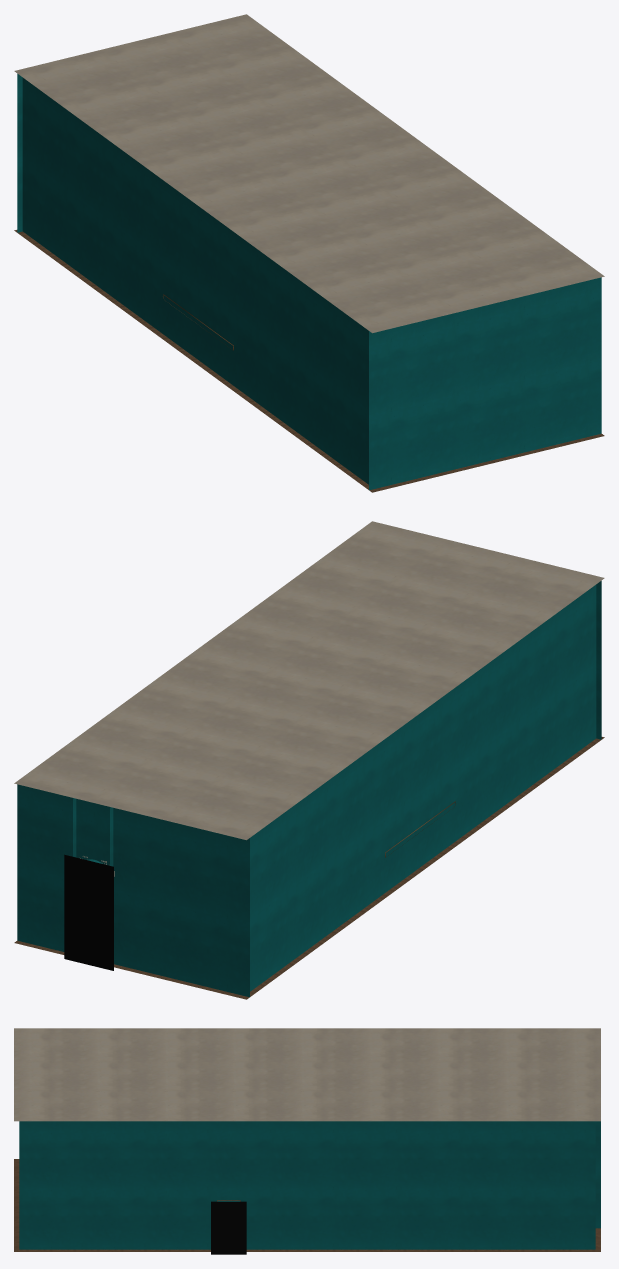
Rendered from rdwe_teal2.glb.
The picture shows the model from 3 angles, top to bottom: view 1: azimuth 30°, elevation 25°; view 2: azimuth 150°, elevation 25°; view 3: azimuth 270°, elevation 25°; orthographic projection. The views are drawn at different scales.
Visible parts, largest first — view 1: Wall_Teal.001, Ceiling_Teal.001, Carpet_Fleck.001; view 2: Wall_Teal.001, Ceiling_Teal.001, Void.001, Carpet_Fleck.001; view 3: Wall_Teal.001, Ceiling_Teal.001, Carpet_Fleck.001, Void.001.
Part boxes in pixels (box(x1,y1,x2,y2)): Wall_Teal.001: box(17, 74, 601, 490); Ceiling_Teal.001: box(14, 14, 604, 333); Carpet_Fleck.001: box(14, 230, 604, 492); Wall_Teal.001: box(17, 581, 601, 997); Ceiling_Teal.001: box(14, 521, 604, 840); Void.001: box(64, 854, 113, 970); Carpet_Fleck.001: box(14, 737, 604, 999); Wall_Teal.001: box(19, 1121, 600, 1249); Ceiling_Teal.001: box(14, 1028, 600, 1121); Carpet_Fleck.001: box(14, 1159, 600, 1251); Void.001: box(211, 1201, 246, 1254).
Size of the model in its own units: 8.55 by 5.55 by 22.55.
15 materials, 7 textured.
